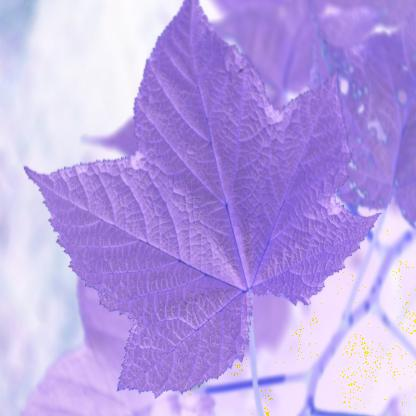raspberry leaf: (18, 0, 386, 400)
